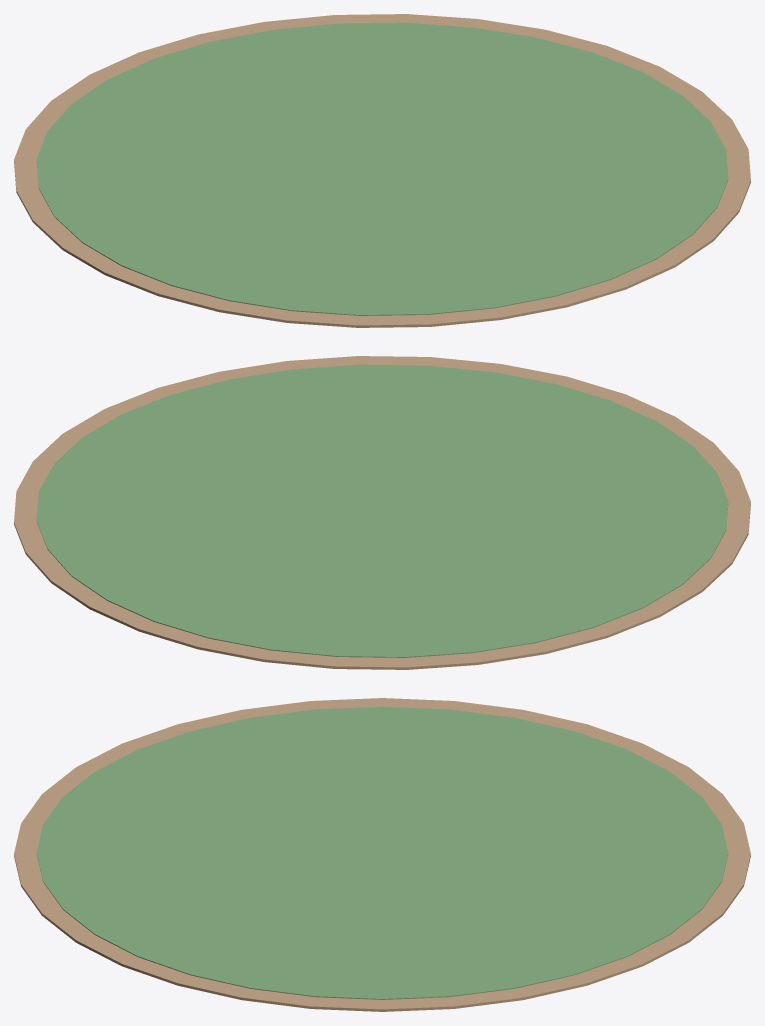
File: kit_rug_round_v1.glb
The picture shows the model from 3 angles, top to bottom: view 1: azimuth 30°, elevation 25°; view 2: azimuth 150°, elevation 25°; view 3: azimuth 270°, elevation 25°; orthographic projection.
Parts seen in each view (by area): view 1: body; view 2: body; view 3: body.
Boxes of the visible parts, bbox=[...] form: body: bbox=[14, 14, 750, 327]; body: bbox=[14, 356, 750, 669]; body: bbox=[14, 698, 750, 1011].
Bounding box in the file's own units: 1.6 × 0.008 × 1.6.
